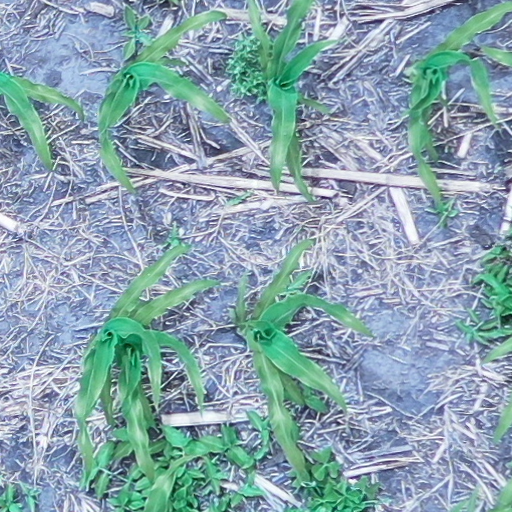planta: (227, 233, 376, 488), (70, 238, 195, 491), (93, 5, 234, 196), (107, 273, 225, 489)
